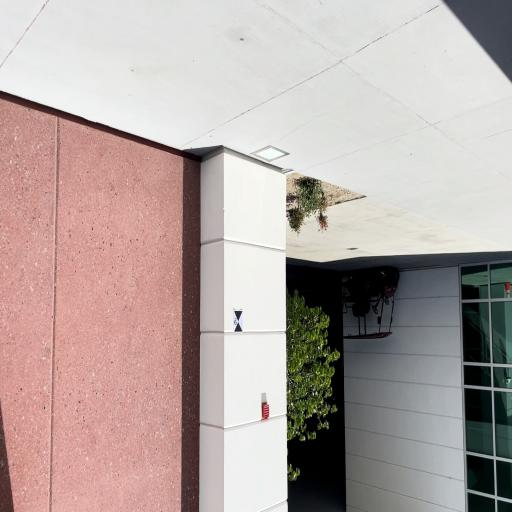target9: (234, 310, 243, 332)
